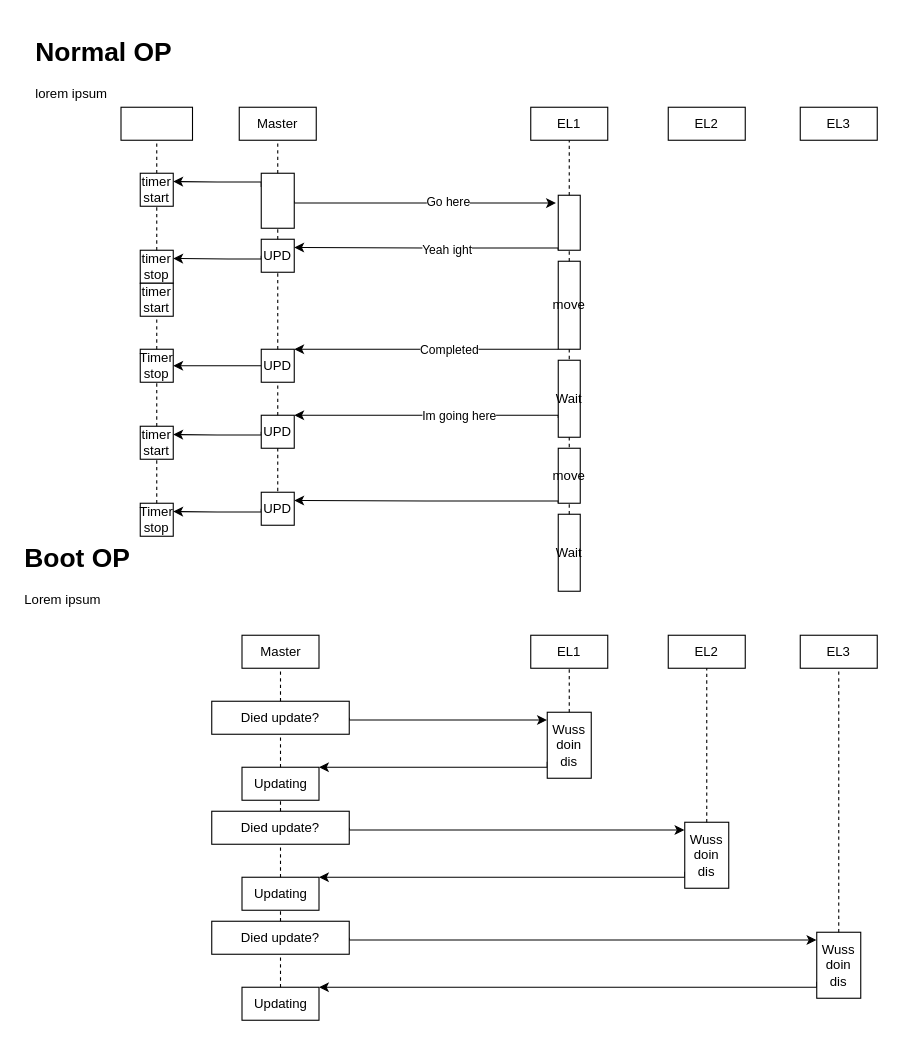
This 897x1040 diagram has some shape labels left out. The centre of each missing label's shape, as x and y in pixels:
Accept: the point at 568,222
Goto floor 3: the point at 277,200
Timer: the point at 156,123
